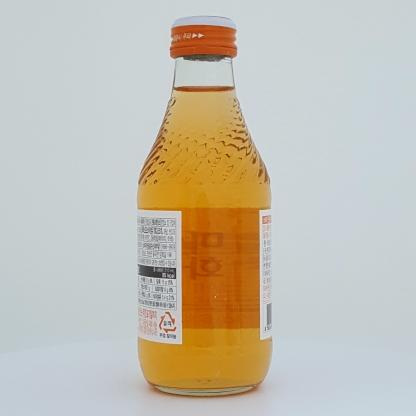--------210ML: (137, 15, 272, 398)
